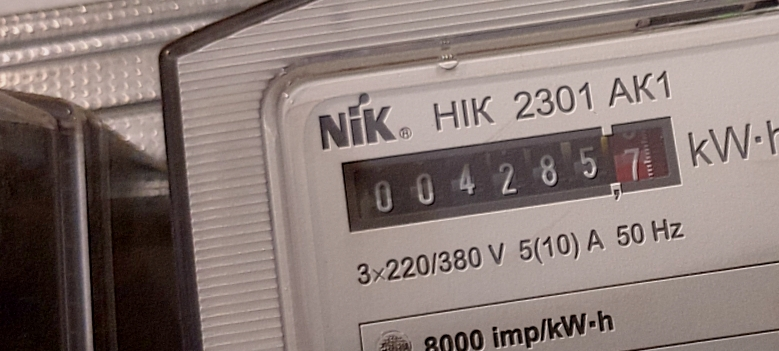0: (413, 168, 439, 207), (371, 176, 396, 214)
2: (496, 158, 519, 196)
4: (456, 160, 477, 196)
5: (576, 142, 601, 180)
7: (621, 144, 645, 182)
8: (535, 150, 561, 189)
screen: (324, 102, 699, 246)
